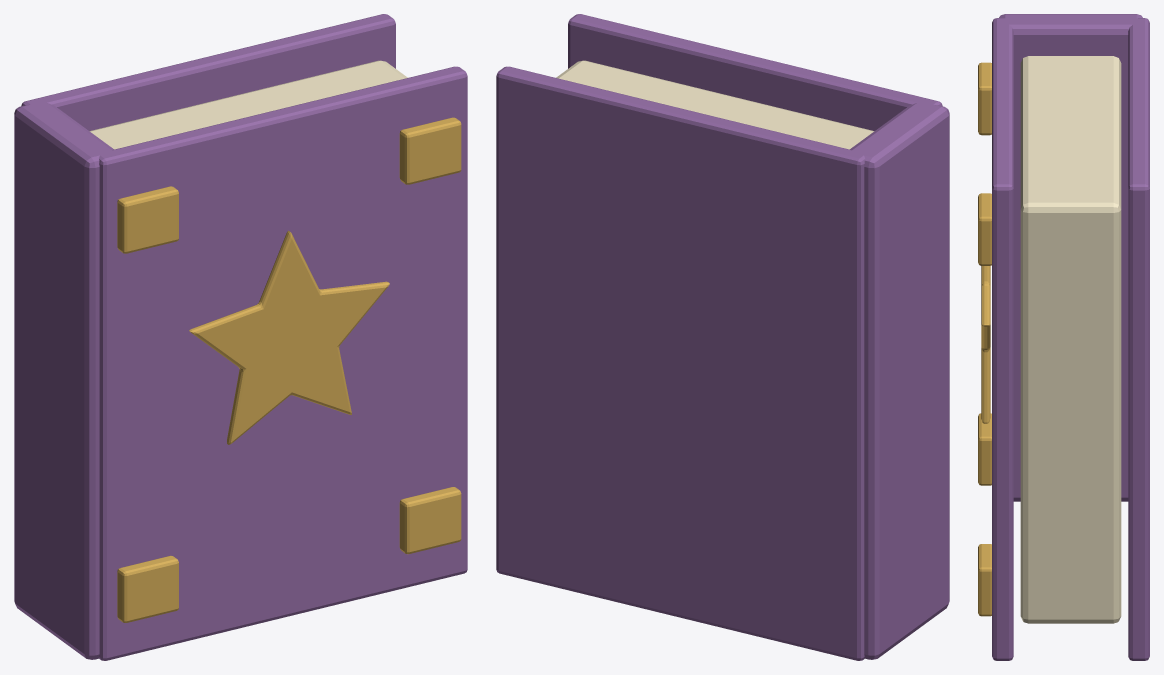
File: P032_spell_book.glb
The picture shows the model from 3 angles, left to right: view 1: azimuth 30°, elevation 25°; view 2: azimuth 150°, elevation 25°; view 3: azimuth 270°, elevation 25°; orthographic projection. The views are drawn at different scales.
Parts seen in each view (by area): view 1: P032_cover_002, P032_spine_004, P032_cover_symbol_005, P032_cover_003, P032_pages_001, P032_corner_009, P032_corner_008, P032_corner_007, P032_corner_006; view 2: P032_cover_003, P032_spine_004, P032_cover_002, P032_pages_001; view 3: P032_pages_001, P032_cover_002, P032_cover_003, P032_spine_004, P032_cover_symbol_005, P032_corner_007, P032_corner_009, P032_corner_008, P032_corner_006.
Boxes of the visible parts, x1,y1,x2,y2 form: P032_cover_002: (99,66,467,660); P032_spine_004: (14,101,113,659); P032_cover_symbol_005: (189,230,389,444); P032_cover_003: (21,14,395,130); P032_pages_001: (89,60,407,149); P032_corner_009: (399,117,461,184); P032_corner_008: (399,487,461,554); P032_corner_007: (117,186,178,253); P032_corner_006: (117,555,178,622); P032_cover_003: (496,66,865,660); P032_spine_004: (850,101,949,659); P032_cover_002: (568,14,942,130); P032_pages_001: (556,60,874,149); P032_pages_001: (1020,56,1121,623); P032_cover_002: (992,18,1013,660); P032_cover_003: (1128,18,1149,660); P032_spine_004: (999,14,1142,501); P032_cover_symbol_005: (981,266,990,423); P032_corner_007: (978,62,991,135); P032_corner_009: (978,193,991,265); P032_corner_008: (978,544,991,616); P032_corner_006: (978,413,991,485).
Size of the model in its own units: 0.268 by 0.34 by 0.111.
